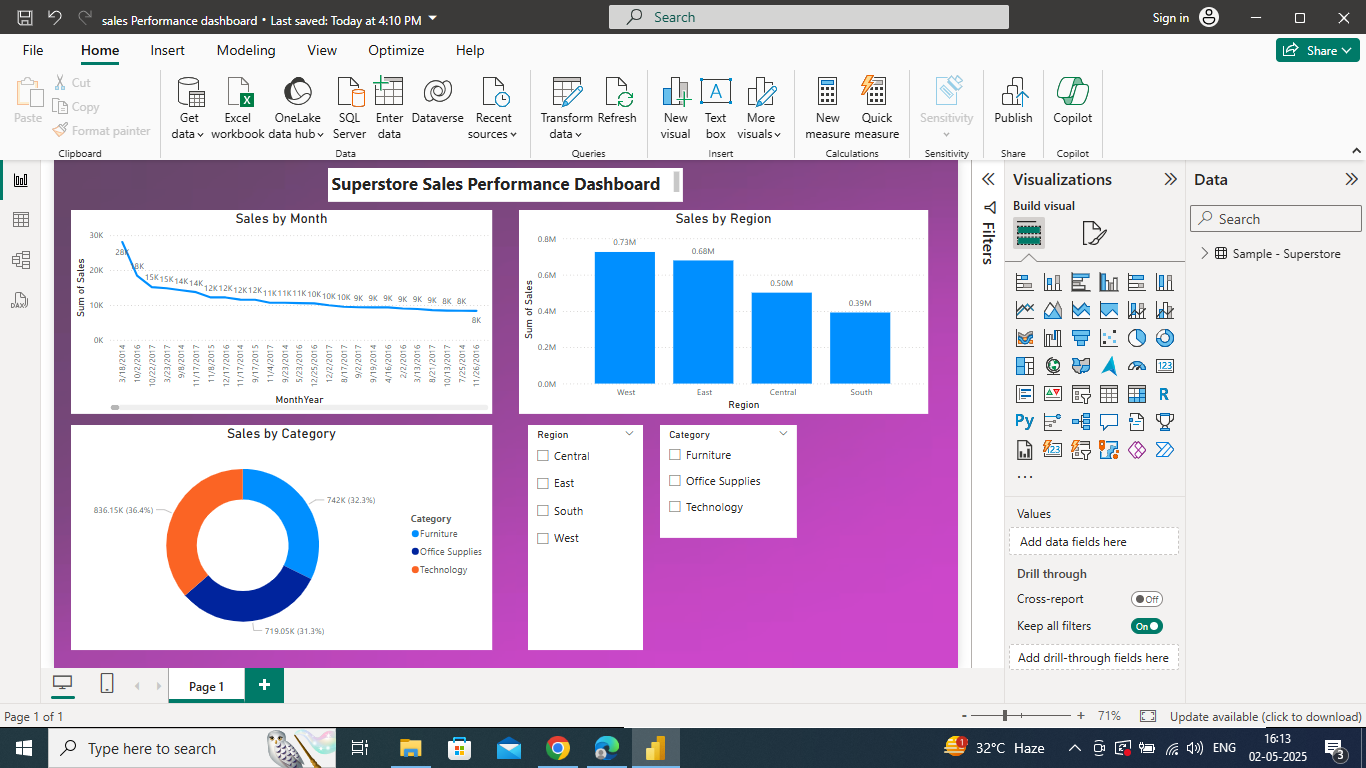

The page's visual inventory and layout, read from the dashboard file:
{"tool":"powerbi","page":{"name":"Page 1","canvas":[1280,720],"ordinal":0},"visuals":[{"type":"lineChart","title":"Sales by Month","fields":{"Category":["Sample - Superstore.MonthYear"],"Y":["Sum(Sample - Superstore.Sales)"]},"box":[24.1,70.9,596.7,289.1],"z":0},{"type":"clusteredColumnChart","title":"Sales by Region","fields":{"Category":["Sample - Superstore.Region"],"Y":["Sum(Sample - Superstore.Sales)"]},"box":[659.1,70.9,579.7,289.1],"z":1},{"type":"donutChart","title":"Sales by Category","fields":{"Series":["Sample - Superstore.Category"],"Y":["Sum(Sample - Superstore.Sales)"]},"box":[24.1,375.6,596.7,318.9],"z":2},{"type":"slicer","fields":{"Values":["Sample - Superstore.Region"]},"box":[671.8,375.6,163,318.9],"z":3},{"type":"textbox","box":[388.3,11.3,503.1,48.2],"z":4},{"type":"slicer","fields":{"Values":["Sample - Superstore.Category"]},"box":[858.9,375.6,194.2,160.2],"z":5}]}

Visuals, with their boxes on the page's 1280x720 design canvas (x1, y1, x2, y2). These are canvas units, not pixel positions in the 1366x768 screenshot, which may show the page scaled, cropped or inside an application window:
"Sales by Month" lineChart: [x1=24, y1=71, x2=621, y2=360]
"Sales by Region" clusteredColumnChart: [x1=659, y1=71, x2=1239, y2=360]
"Sales by Category" donutChart: [x1=24, y1=376, x2=621, y2=694]
slicer - Sample - Superstore.Region: [x1=672, y1=376, x2=835, y2=694]
textbox: [x1=388, y1=11, x2=891, y2=60]
slicer - Sample - Superstore.Category: [x1=859, y1=376, x2=1053, y2=536]
